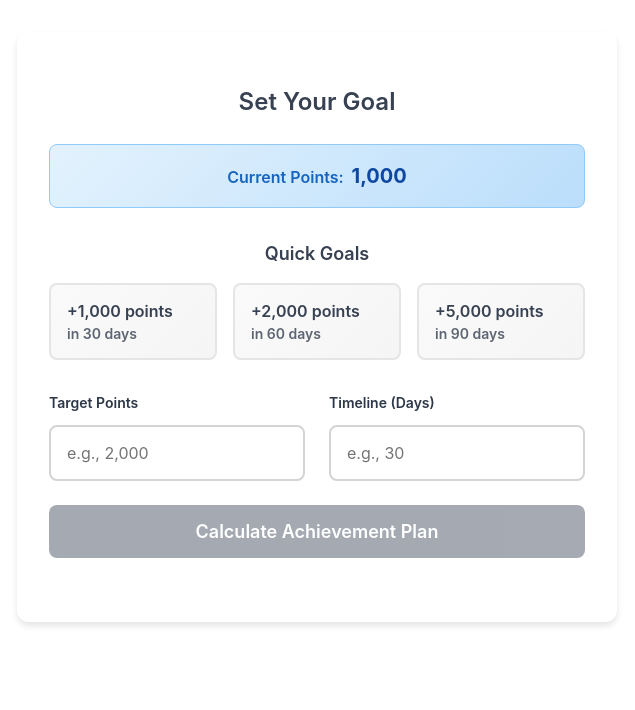
Test: GoalCalculator Component › Goal Preview › should show goal preview when valid inputs are provided
Step 1. Type "2500" into the number field labelled "Target Points" → coordinates (177, 453), box [49,425,305,481]
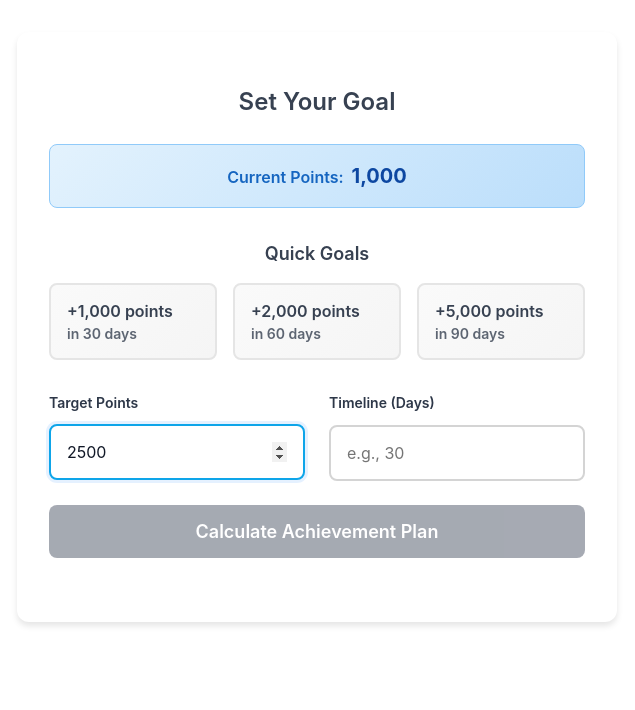
Step 2. Type "45" into the number field labelled "Timeline (Days)" → coordinates (457, 453), box [329,425,585,481]
(page scrolled)
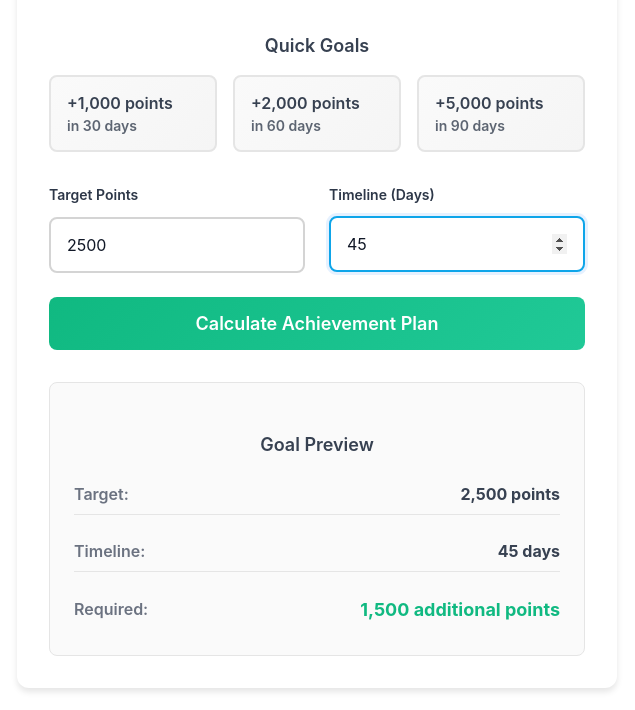
Expected: the heading "Goal Preview" is shown, [260,434,374,455]
Expected: the text "2,500 points" is shown, [460,482,560,506]
Expected: the text "45 days" is shown, [498,539,560,563]
